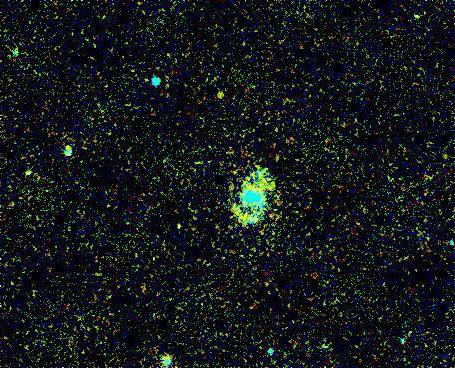star: (162, 211, 192, 241)
